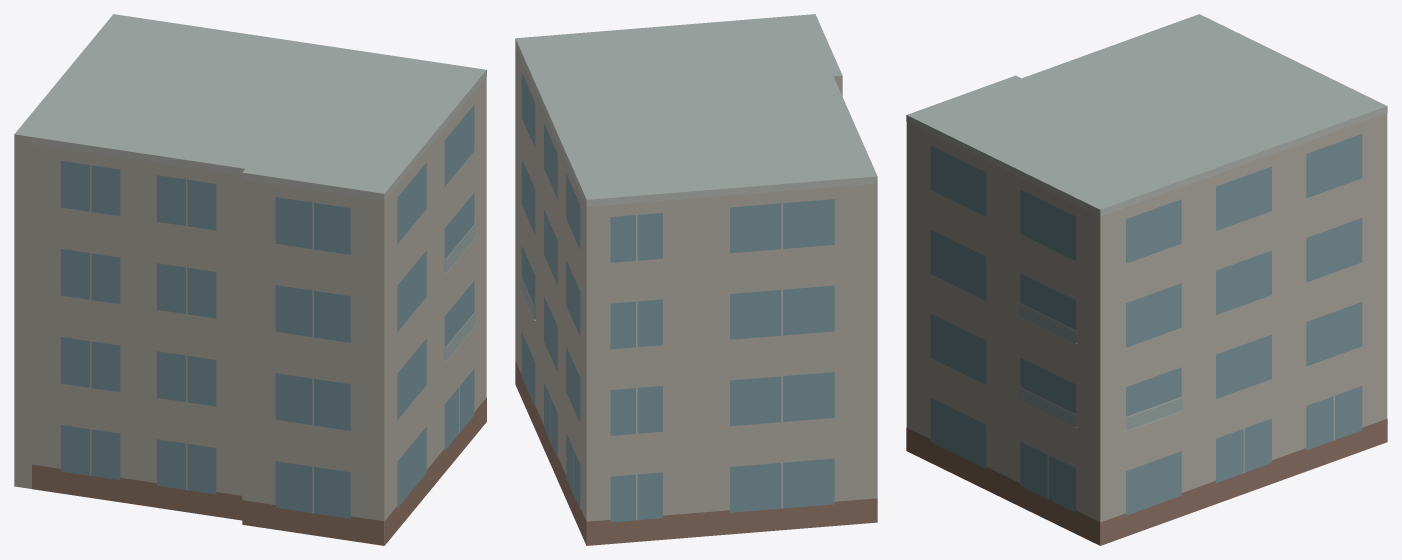
File: survey-upis-32658899.glb
3 renders of one model, left to right at view 1: azimuth 30°, elevation 25°; view 2: azimuth 150°, elevation 25°; view 3: azimuth 270°, elevation 25°, orthographic. The views are drawn at different scales.
Visible parts, largest first — view 1: survey-upis-32658899.tmp; view 2: survey-upis-32658899.tmp; view 3: survey-upis-32658899.tmp.
Boxes of the visible parts, <box> form: survey-upis-32658899.tmp: <box>14,14,486,545</box>; survey-upis-32658899.tmp: <box>515,14,877,545</box>; survey-upis-32658899.tmp: <box>906,14,1387,545</box>.
Size of the model in its own units: 15.02 by 12.01 by 15.58.
